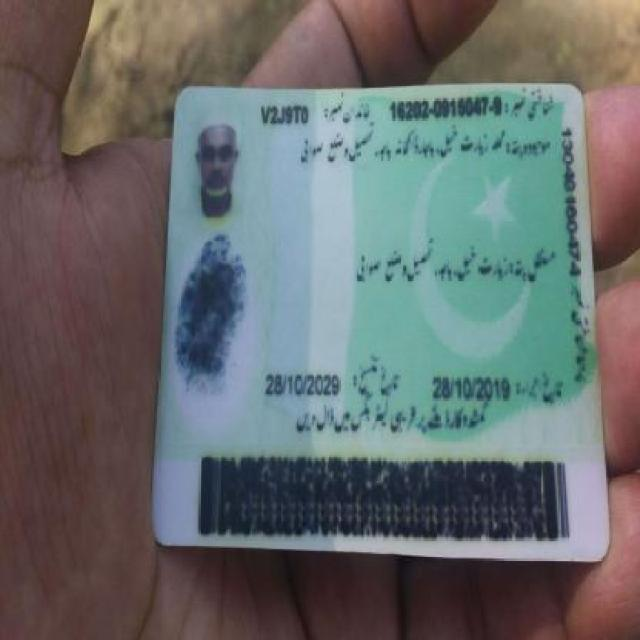Back: (149, 77, 611, 574)
